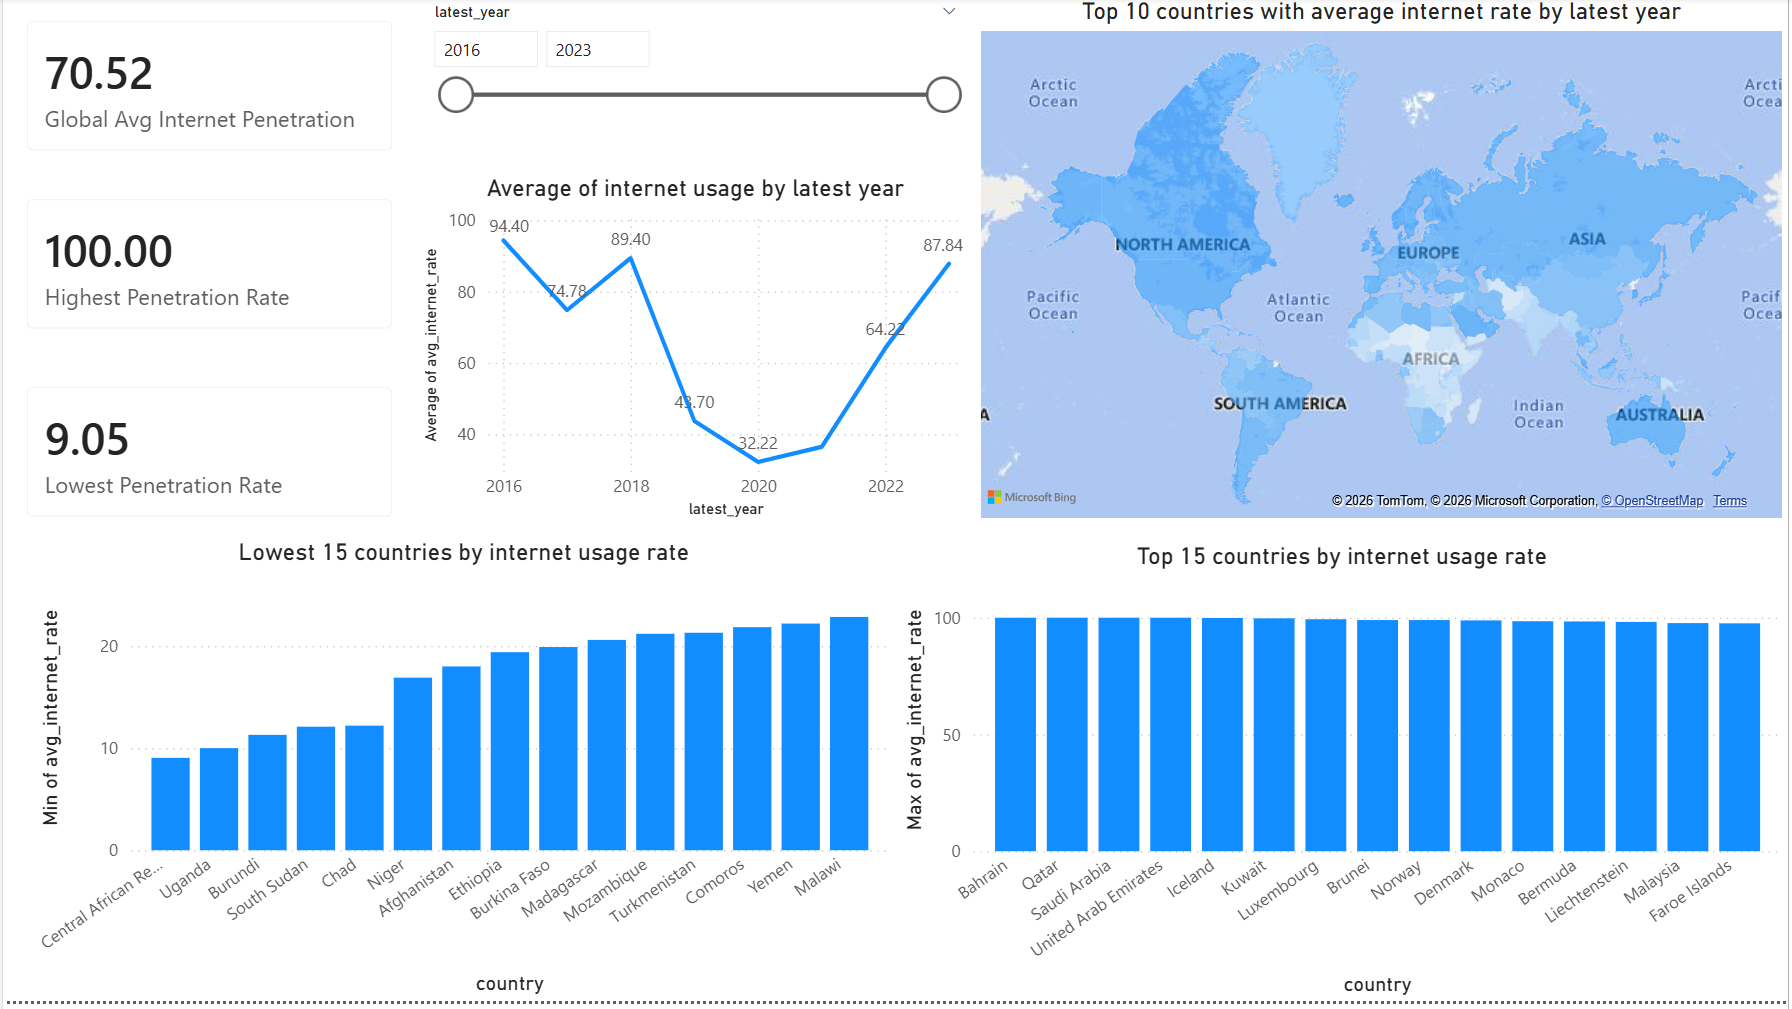

Layout of this report page (visuals, bound fields, positions):
{"tool":"powerbi","page":{"name":"Page 1","canvas":[1280,720],"ordinal":0},"visuals":[{"type":"slicer","fields":{"Values":["internet_usage_cleaned.latest_year"]},"box":[296.6,0,399.7,127.8],"z":0},{"type":"filledMap","title":"Top 10 countries with average internet rate by latest year","fields":{"Category":["internet_usage_cleaned.country"]},"box":[696,0,584.1,378.4],"z":1000},{"type":"clusteredColumnChart","title":"Top 15 countries by internet usage rate","fields":{"Category":["internet_usage_cleaned.country"],"Y":["Max(internet_usage_cleaned.avg_internet_rate)"]},"box":[640,389.9,640,330.7],"z":2000},{"type":"clusteredColumnChart","title":"Lowest 15 countries by internet usage rate","fields":{"Category":["internet_usage_cleaned.country"],"Y":["Min(internet_usage_cleaned.avg_internet_rate)"]},"box":[21.4,388.3,618.6,332.3],"z":3000},{"type":"cardVisual","fields":{"Data":["Avg(internet_usage_cleaned.avg_internet_rate)"]},"box":[0,0,296.3,127.2],"z":4000},{"type":"cardVisual","fields":{"Data":["Min(internet_usage_cleaned.avg_internet_rate)"]},"box":[0,262.5,296.3,127.2],"z":5000},{"type":"cardVisual","fields":{"Data":["Max(internet_usage_cleaned.avg_internet_rate)"]},"box":[0,127.2,296.3,127.2],"z":6000},{"type":"lineChart","title":"Average of internet usage by latest year","fields":{"Category":["internet_usage_cleaned.latest_year"],"Y":["Avg(internet_usage_cleaned.avg_internet_rate)"]},"box":[296.1,126.7,399.8,251.7],"z":7000}]}

Visuals, with their boxes in screenshot pixels (x1, y1, x2, y2), scaled from the page's 1280x720 canvas onto the 1792x1009 screenshot:
slicer - internet_usage_cleaned.latest_year: x1=415 y1=0 x2=975 y2=179
"Top 10 countries with average internet rate by latest year" filledMap: x1=974 y1=0 x2=1791 y2=530
"Top 15 countries by internet usage rate" clusteredColumnChart: x1=896 y1=546 x2=1791 y2=1008
"Lowest 15 countries by internet usage rate" clusteredColumnChart: x1=30 y1=544 x2=896 y2=1008
cardVisual - Avg(internet_usage_cleaned.avg_internet_rate): x1=0 y1=0 x2=415 y2=178
cardVisual - Min(internet_usage_cleaned.avg_internet_rate): x1=0 y1=368 x2=415 y2=546
cardVisual - Max(internet_usage_cleaned.avg_internet_rate): x1=0 y1=178 x2=415 y2=357
"Average of internet usage by latest year" lineChart: x1=415 y1=178 x2=974 y2=530
